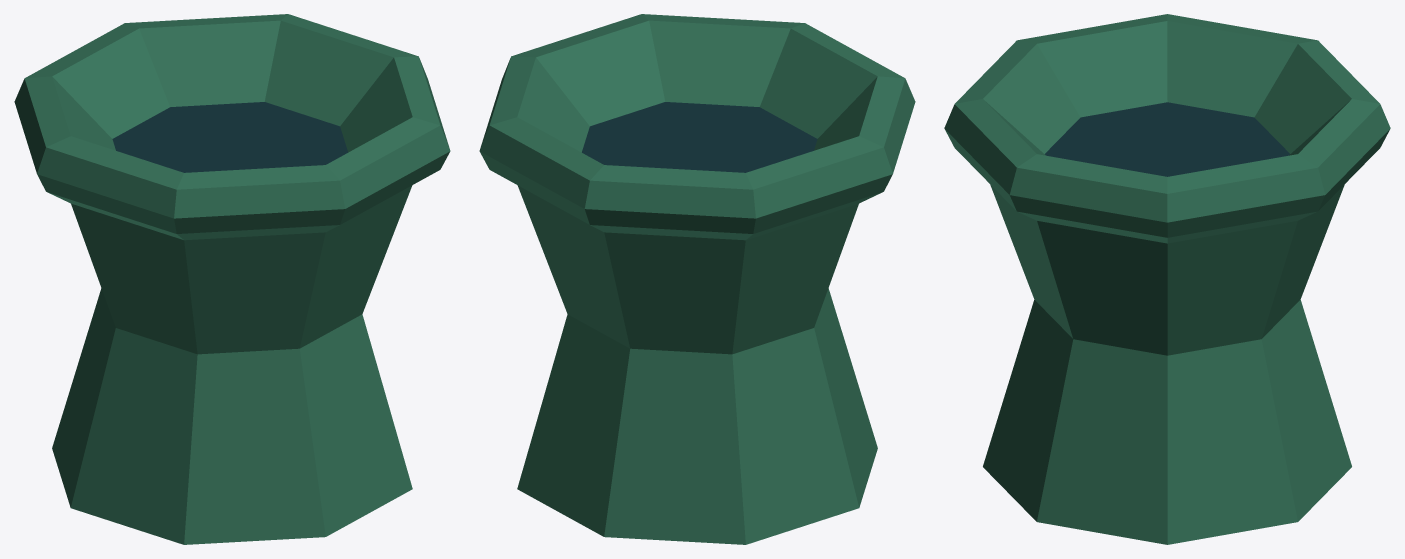
The model's file is wooden_seat_1.FBX.
The picture shows the model from 3 angles, left to right: view 1: azimuth 30°, elevation 25°; view 2: azimuth 150°, elevation 25°; view 3: azimuth 270°, elevation 25°; orthographic projection.
Parts seen in each view (by area): view 1: wooden_seat_1; view 2: wooden_seat_1; view 3: wooden_seat_1.
Boxes of the visible parts, x1,y1,x2,y2 form: wooden_seat_1: (14, 14, 450, 544); wooden_seat_1: (479, 14, 915, 544); wooden_seat_1: (944, 14, 1390, 544).
Size of the model in its own units: 0.6646 by 0.6044 by 0.6646.
Materials: 1 (1 with a texture image).
